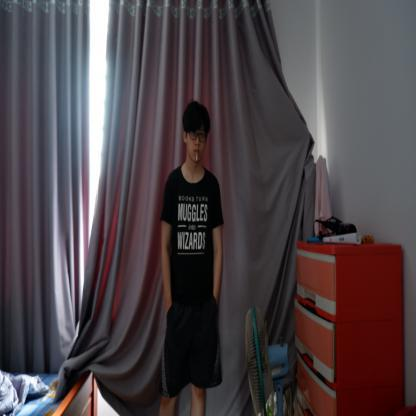cigarette: (196, 150, 198, 162)
person: (158, 101, 225, 415)
